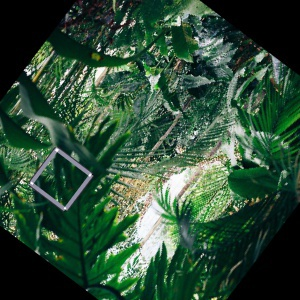square: (27, 144, 95, 212)
